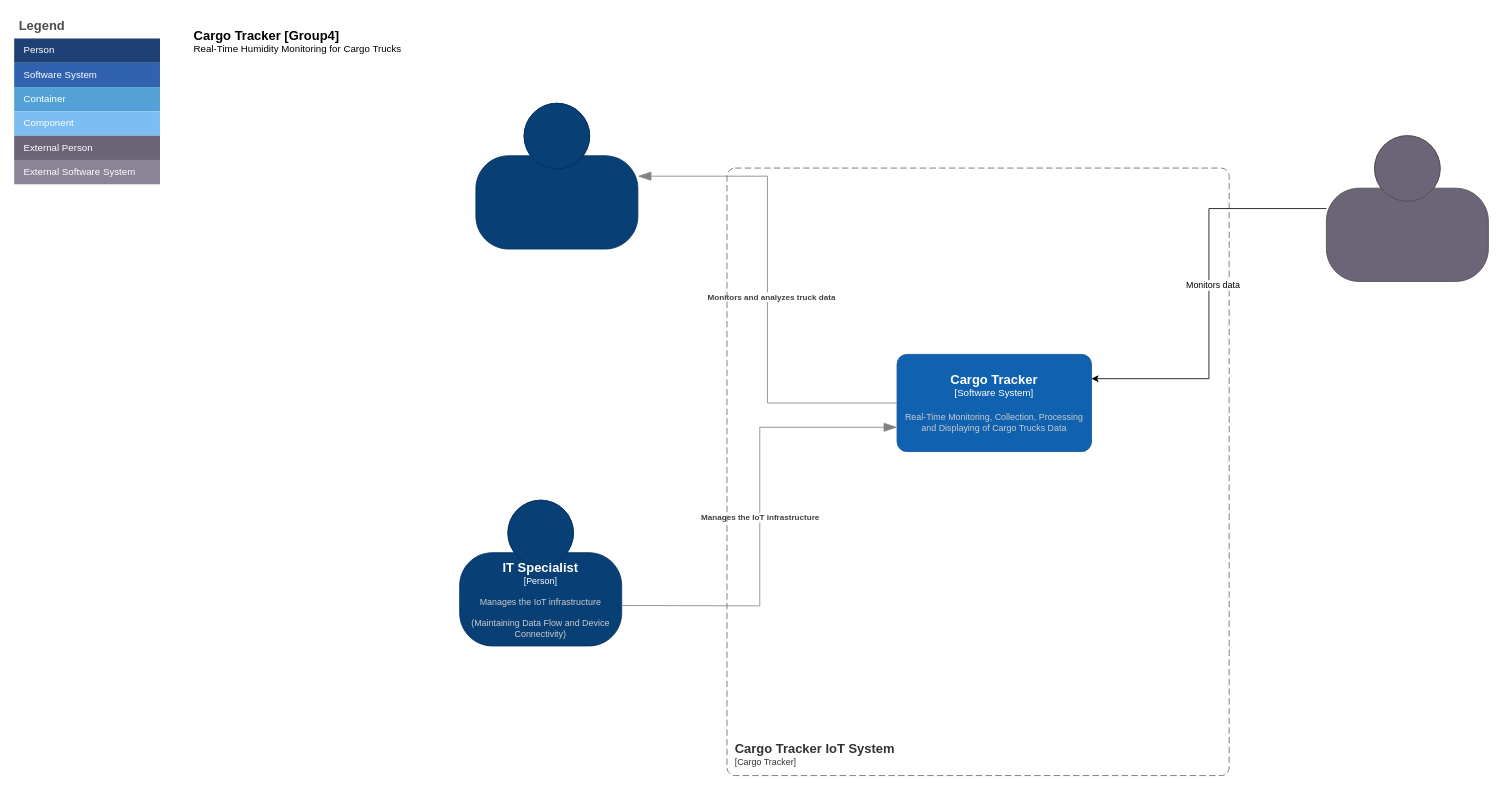
Image size: 1503x790. Some labels were removed from this diagram. The box of each missing label's shape, as (x1, y1, x2, y2) in pixels:
Logistics Specialist [Person] Monitors and analyzes data from the trucks: (475, 102, 638, 249)
Truck Driver [Person] Monitors data: (1326, 135, 1488, 281)
